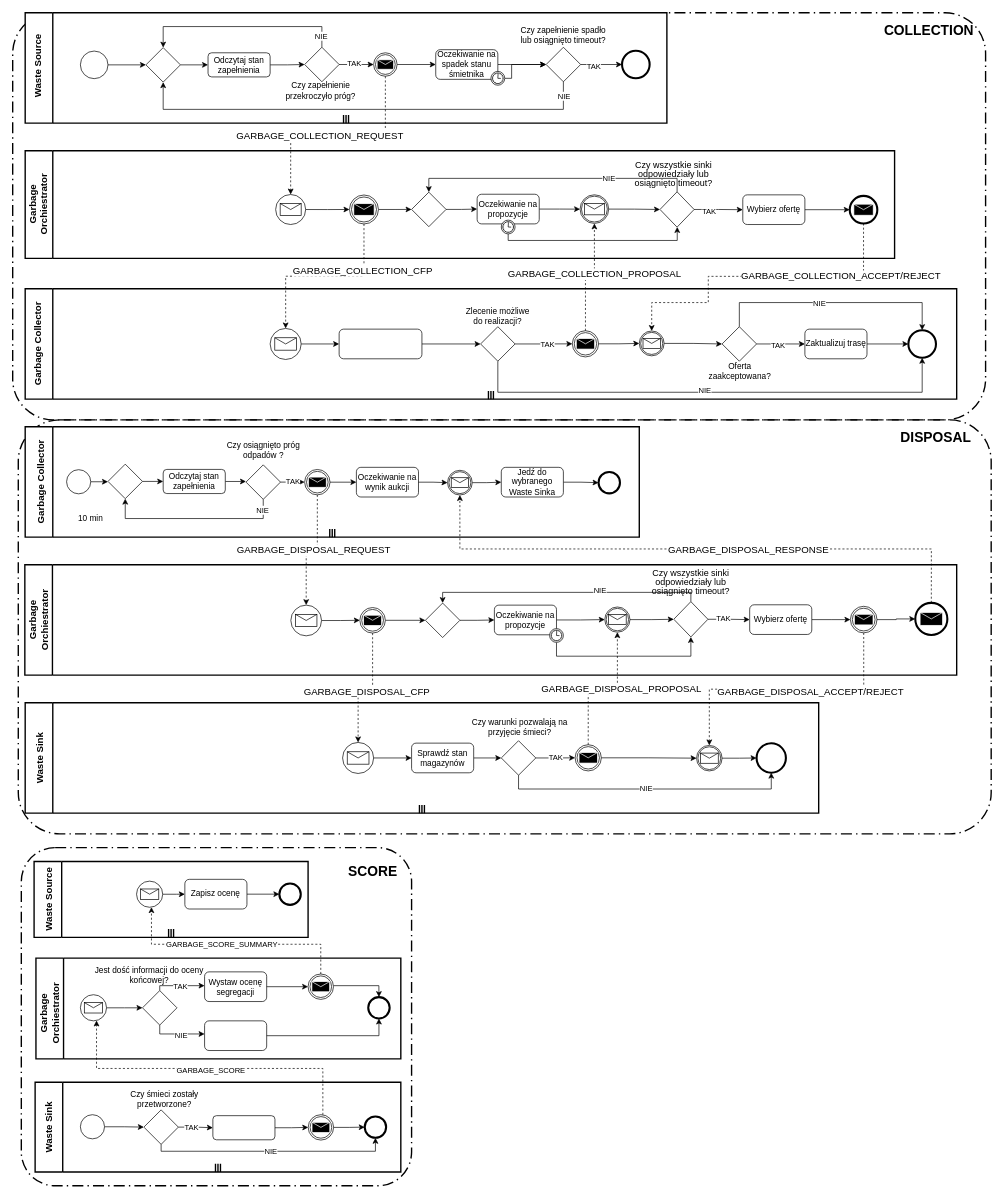
This 1004x1198 diagram has some shape labels left out. The centre of each missing label's shape, as x and y in pixels:
"Przygotuj ocenę segregacji" belongs at pixel 243 1127.
"Ustal czas odebrania i czy jest możliwość przyjęcia śmieci" belongs at pixel 380 343.
"Zapisz ocenę cząstkową" belongs at pixel 235 1035.
